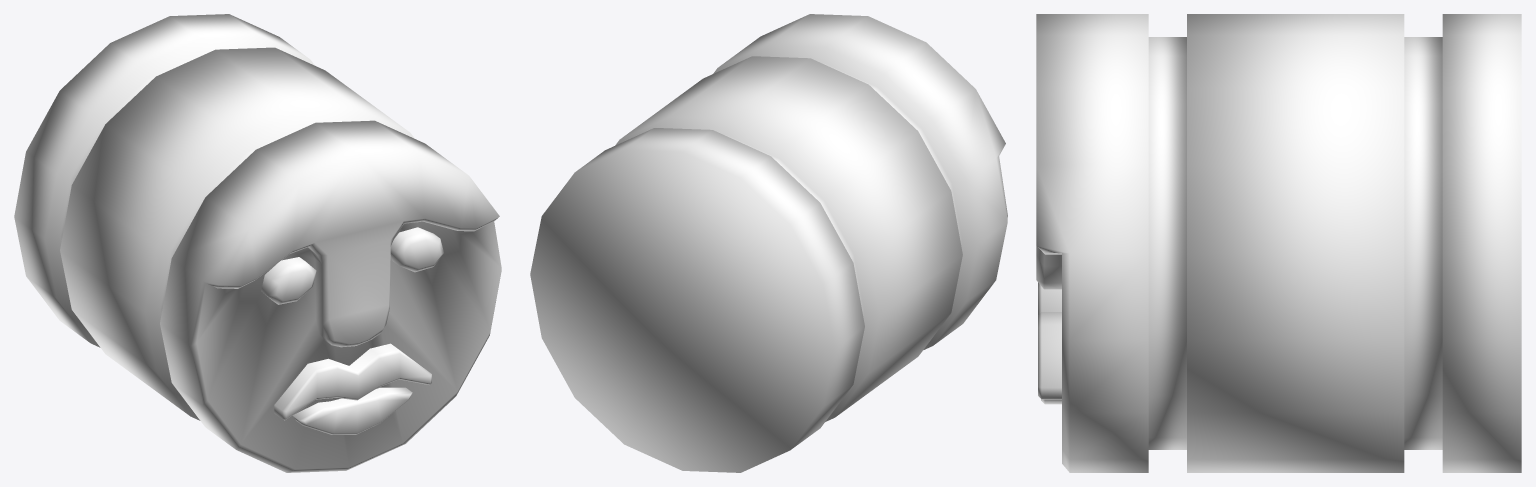
The model's file is ThomasTheCylindricBoulder - Copy.fbx.
3 renders of one model, left to right at view 1: azimuth 30°, elevation 25°; view 2: azimuth 150°, elevation 25°; view 3: azimuth 270°, elevation 25°, orthographic. The views are drawn at different scales.
Visible parts, largest first — view 1: Cylinder; view 2: Cylinder; view 3: Cylinder.
Part boxes in pixels (x1=…): Cylinder: x1=14, y1=14, x2=501, y2=472; Cylinder: x1=530, y1=14, x2=1007, y2=472; Cylinder: x1=1036, y1=14, x2=1521, y2=472.
Size of the model in its own units: 2 by 2 by 2.11.
